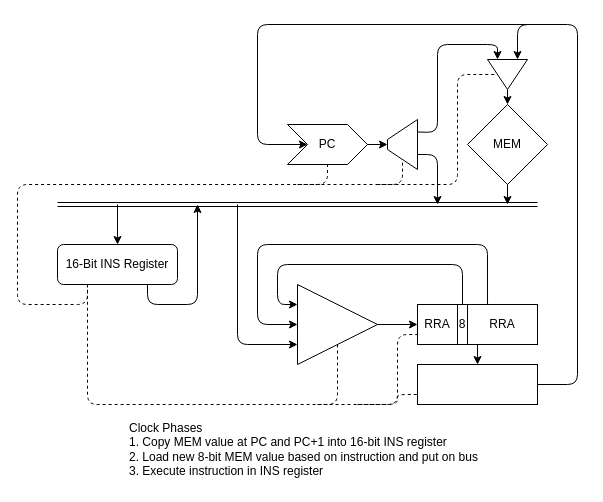
Some shapes in this 603 by 502 pixel diagram are drawn without their labels. The shapes that lost their labels are listed below. From the top down, each one's centre as x and y in pixels, then its label:
At point 337,324: "ALU".
At point 477,384: "RRP".
